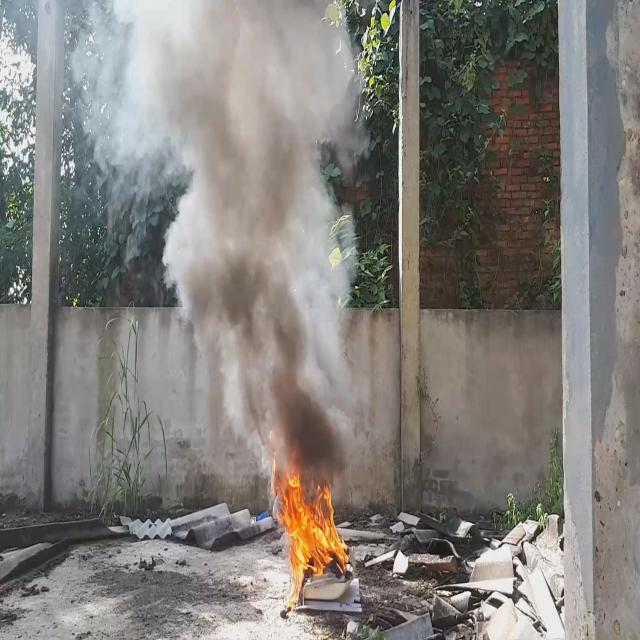Fire: (270, 448, 352, 610)
Smoke: (68, 0, 362, 486)
